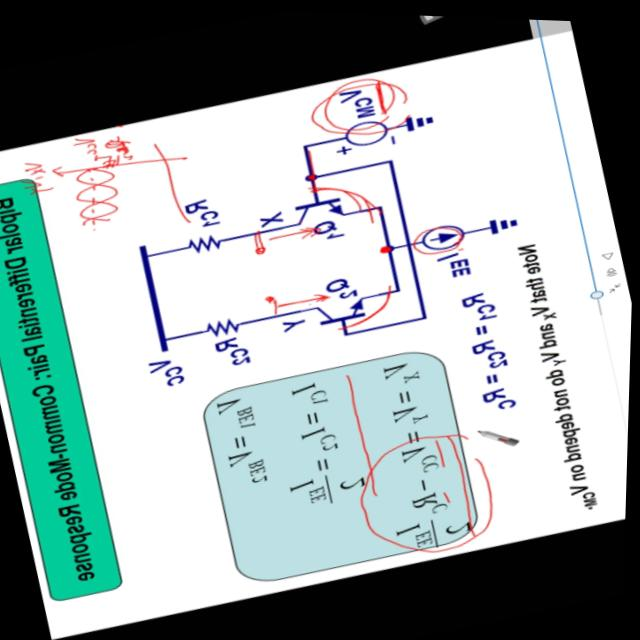panseo: (0, 100, 236, 277)
